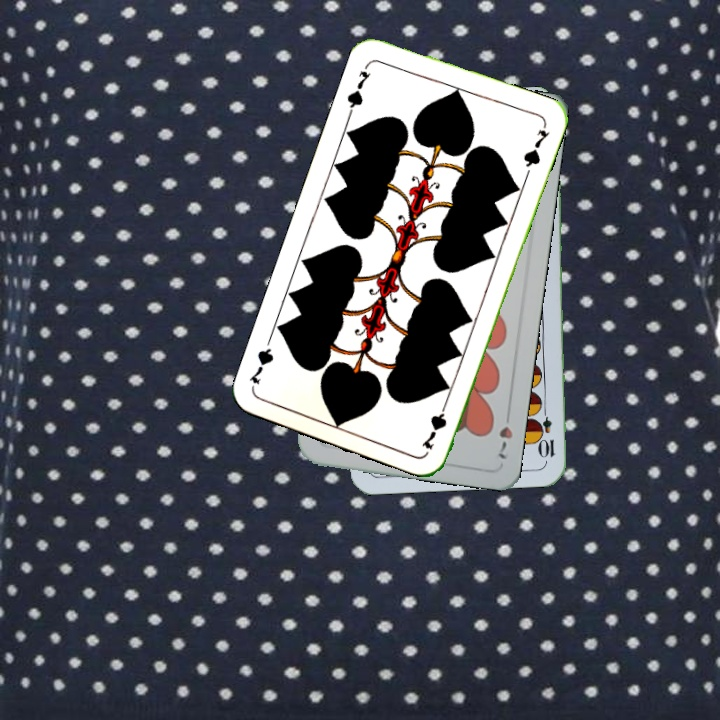E10: (537, 401, 557, 461)
G7: (417, 395, 451, 453), (342, 60, 373, 117)
H7: (493, 405, 516, 462)
